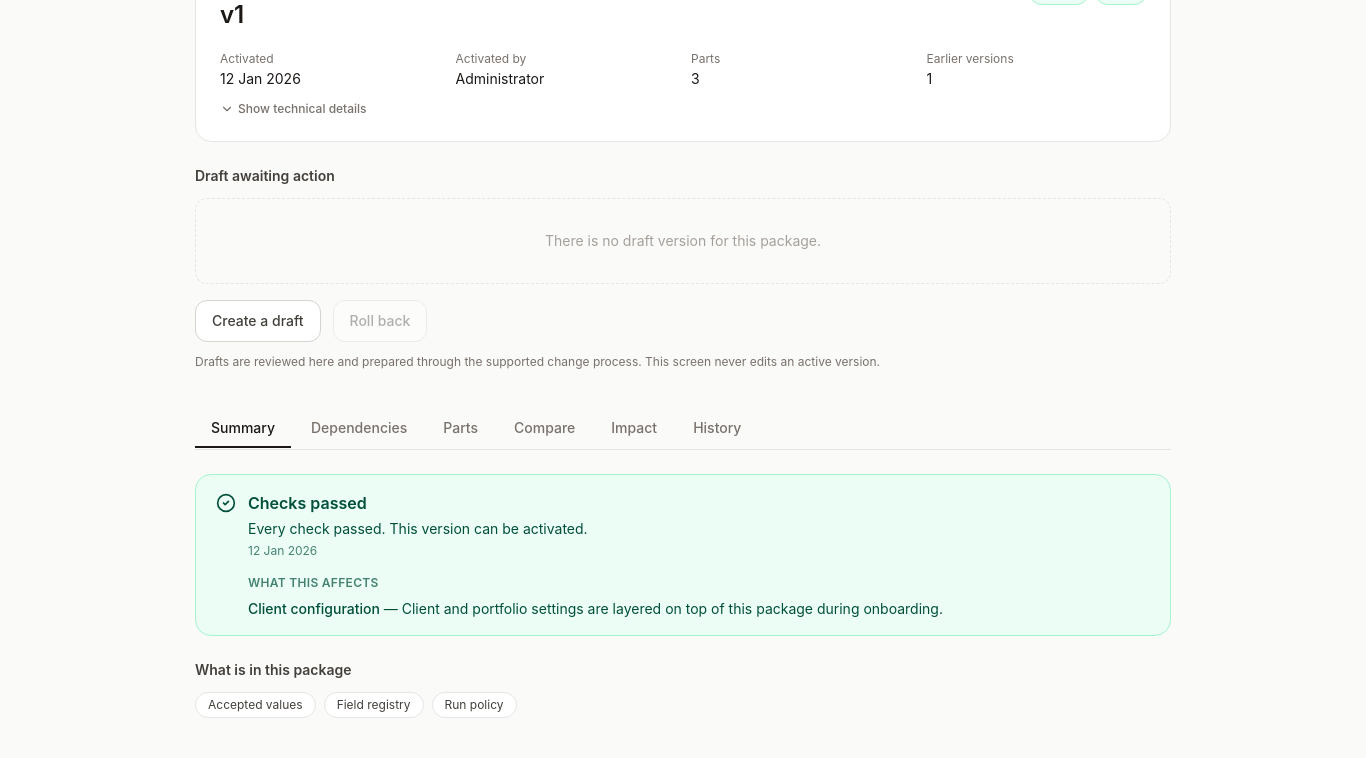
Test: versions › shows which workflows are pinned to the active version
The width and height of the screenshot is (1366, 758).
(page scrolled)
Click the button "Impact" at [634, 429], box [595,410,673,448]
(page scrolled)
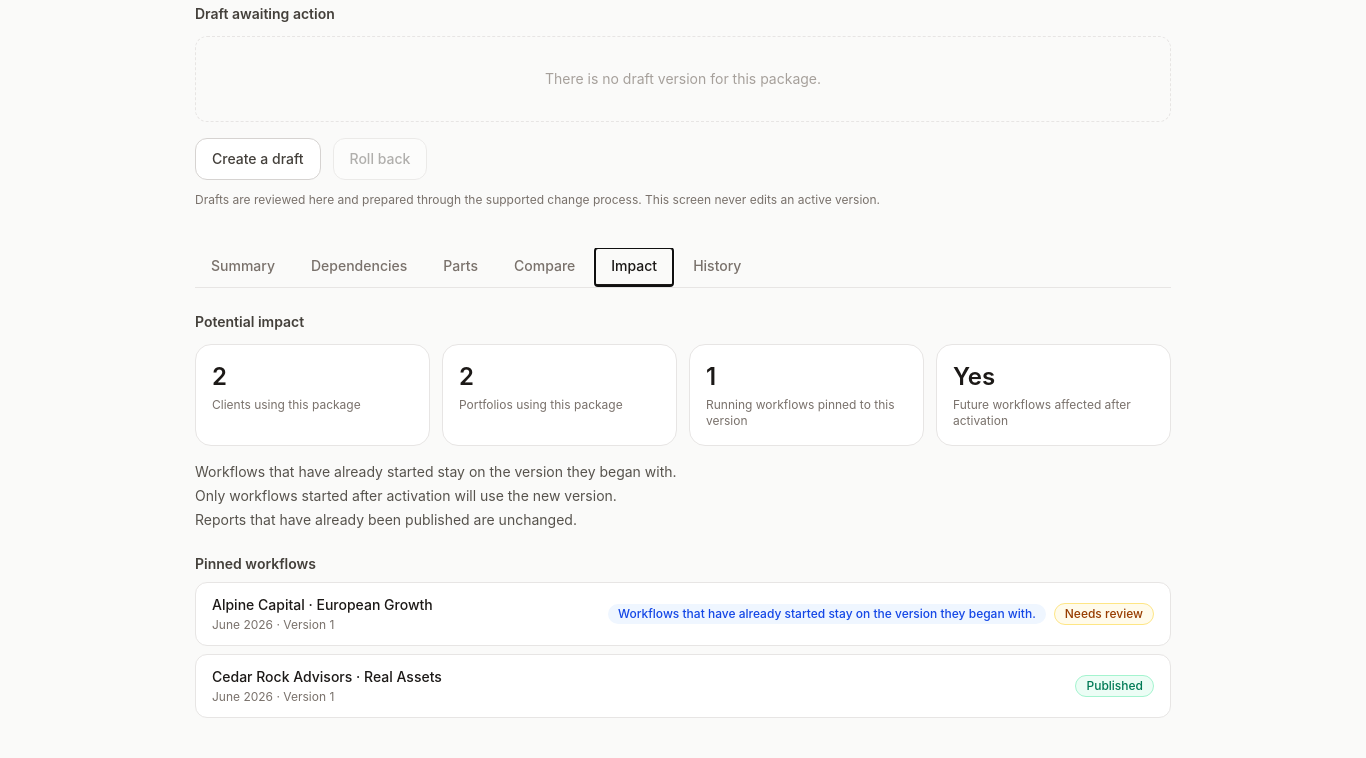
Now the heading "Potential impact" is shown, box [195,313,304,330]
Now the text "Clients using this package" is shown, box [212,397,361,412]
Now the text "Running workflows pinned to this version" is shown, box [706,397,907,429]
